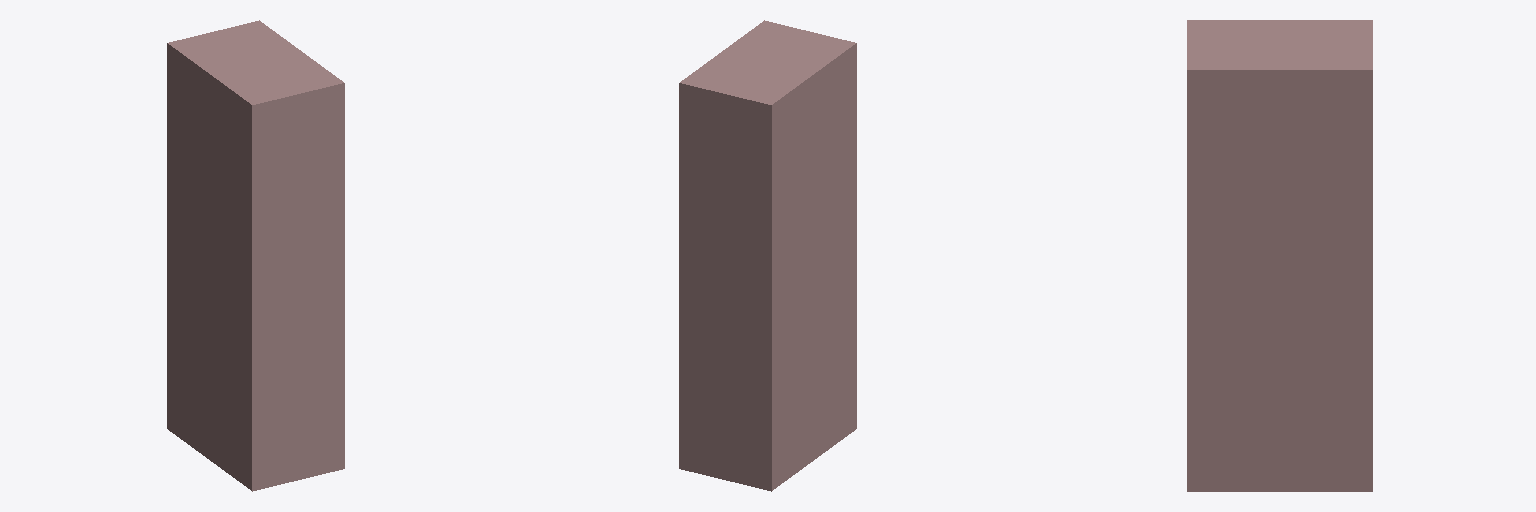
URDF robot description (obstacle.urdf):
<?xml version="1.0" ?>
<robot name="obstacle.urdf">
  <link name="baseLink">
    <contact>
    	<friction_anchor/>
    	   <lateral_friction value="1"/>
    </contact>
    <inertial>
      <origin rpy="0 0 0" xyz="0 0 0"/>
       <mass value="100."/>
       <inertia ixx="1" ixy="0" ixz="0" iyy="1" iyz="0" izz="1"/>
    </inertial>
    <visual>
      <origin rpy="0 0 0" xyz="0 0 0"/>
      <geometry>
        <box size=".025 0.04 .1"/>
      </geometry>
       <material name="maroon">
        <color rgba="0.7 0.588 0.588 1"/>
      </material>
    </visual>
    <collision>
      <origin rpy="0 0 0" xyz="0 0 0"/>
      <geometry>
        <box size=".025 .04 .1"/>
      </geometry>
    </collision>
  </link>
</robot>

--- Render facts (derived) ---
3 views of the same robot in one strip: view 1: azimuth 30°, elevation 25°; view 2: azimuth 150°, elevation 25°; view 3: azimuth 270°, elevation 25° (orthographic).
Model obstacle.urdf with 1 links and 0 joints (none), rooted at baseLink, posed every joint at zero.
Links seen in each view (by area): view 1: baseLink; view 2: baseLink; view 3: baseLink.
Link boxes in pixels (x1,y1,x2,y2): baseLink: (167, 20, 344, 491); baseLink: (679, 20, 856, 491); baseLink: (1187, 20, 1372, 491).
Size in the robot's own frame: 0.025 by 0.04 by 0.1 metres.
Geometry: primitives only (box / cylinder / sphere), no mesh files.